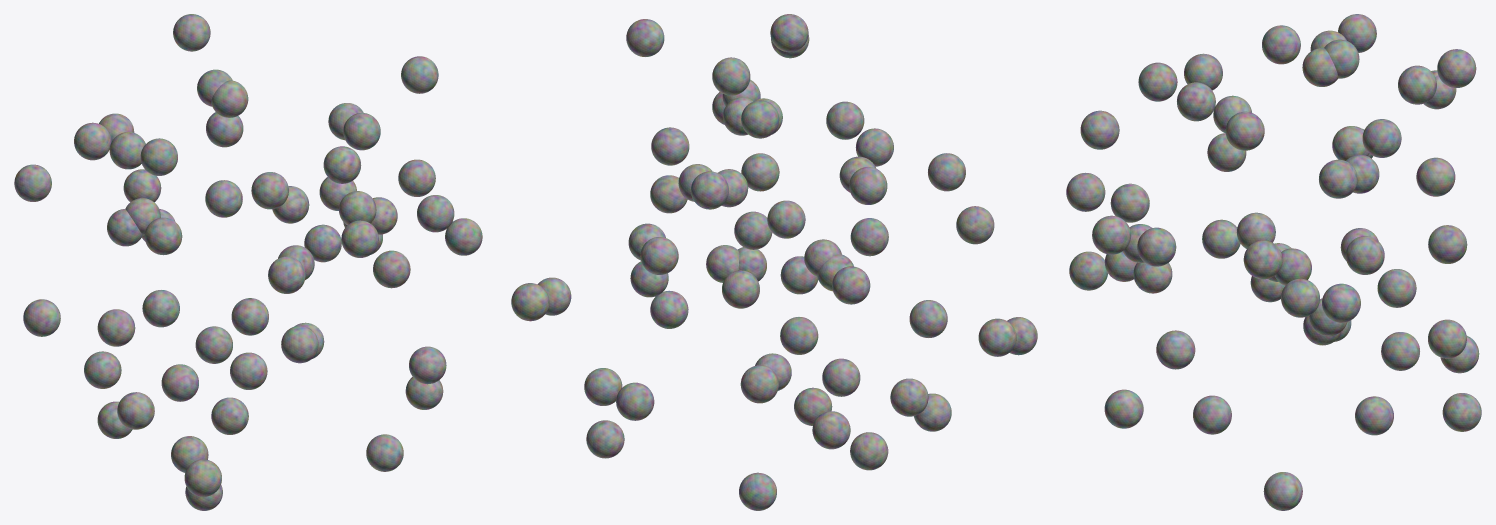
The model's file is triangle.gltf.
The picture shows the model from 3 angles, left to right: view 1: azimuth 30°, elevation 25°; view 2: azimuth 150°, elevation 25°; view 3: azimuth 270°, elevation 25°; orthographic projection. The views are drawn at different scales.
Parts seen in each view (by area): view 1: world (×49); view 2: world (×47); view 3: world (×47).
Part boxes in pixels (x1,y1,x2,y2): world (×49): (14,14,482,510); world (×47): (511,14,1037,510); world (×47): (1066,14,1481,510).
Bounding box in the file's own units: 5.37 × 5.42 × 5.31.
